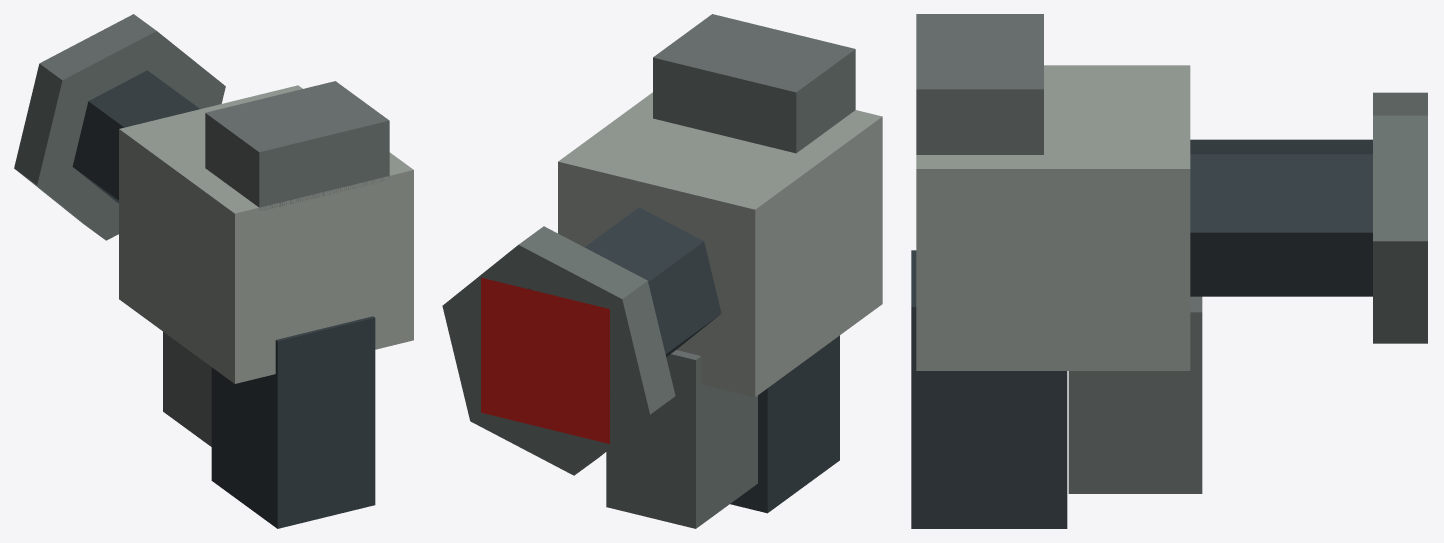
3 views of the same model, side by side, from view 1: azimuth 30°, elevation 25°; view 2: azimuth 150°, elevation 25°; view 3: azimuth 270°, elevation 25° (orthographic). The views are drawn at different scales.
Parts seen in each view (by area): view 1: mount; view 2: mount; view 3: mount.
Boxes of the visible parts, box(x1,y1,x2,y2) form: mount: box(14, 14, 413, 528); mount: box(442, 14, 882, 528); mount: box(911, 14, 1427, 528).
Bounding box in the file's own units: 4.52 × 8.68 × 9.07.
